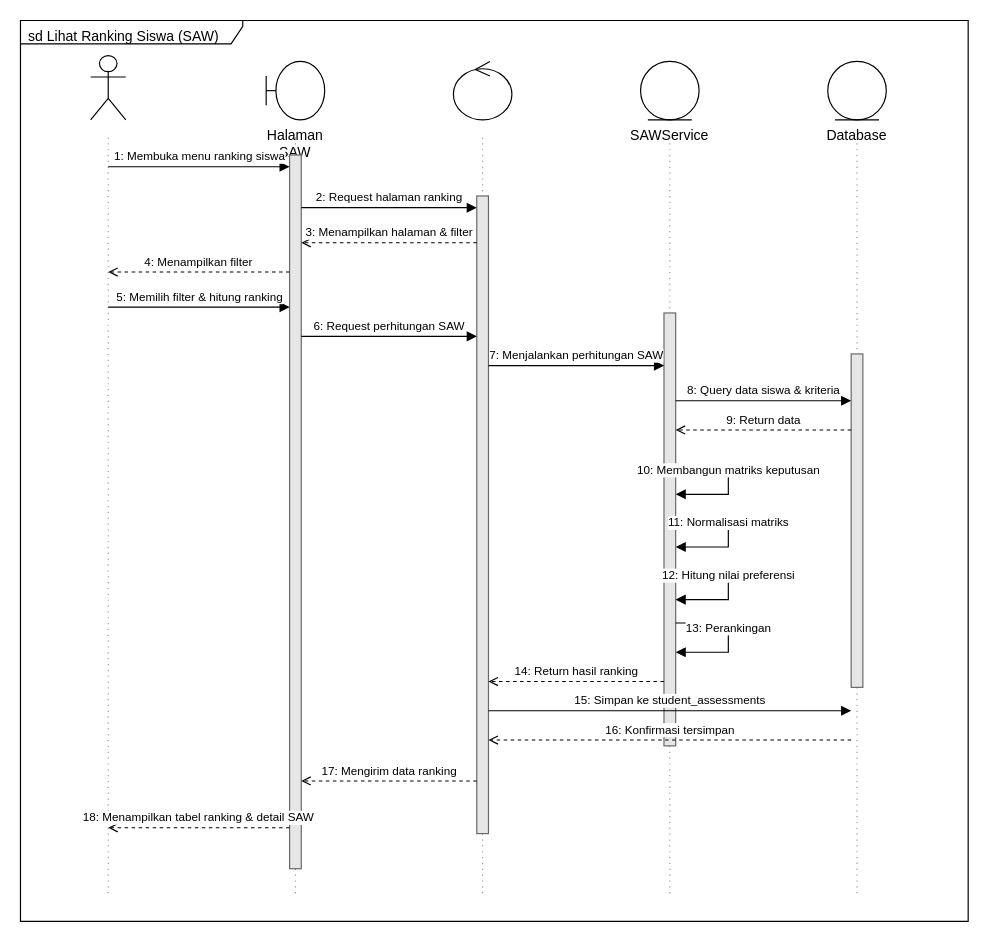
Image size: 989x942. Some labels were removed from this diagram. Each missing label, with the centre of its shape:
Pengguna: the point at 108,87
SAWController: the point at 482,90
